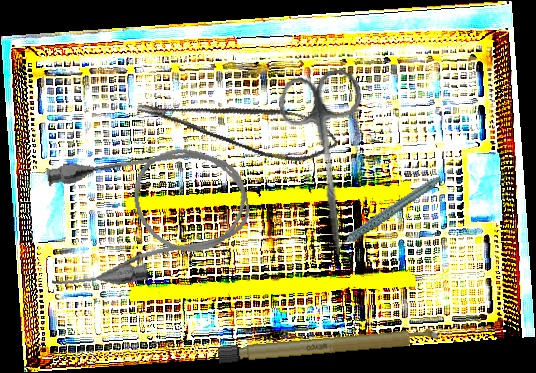Cannula: (32, 134, 259, 297)
Handpiece: (318, 174, 452, 251)
Iris Scissors: (275, 67, 384, 262)
Micro Scissor: (134, 66, 344, 177)
Scalpel Handle: (217, 327, 441, 365)
